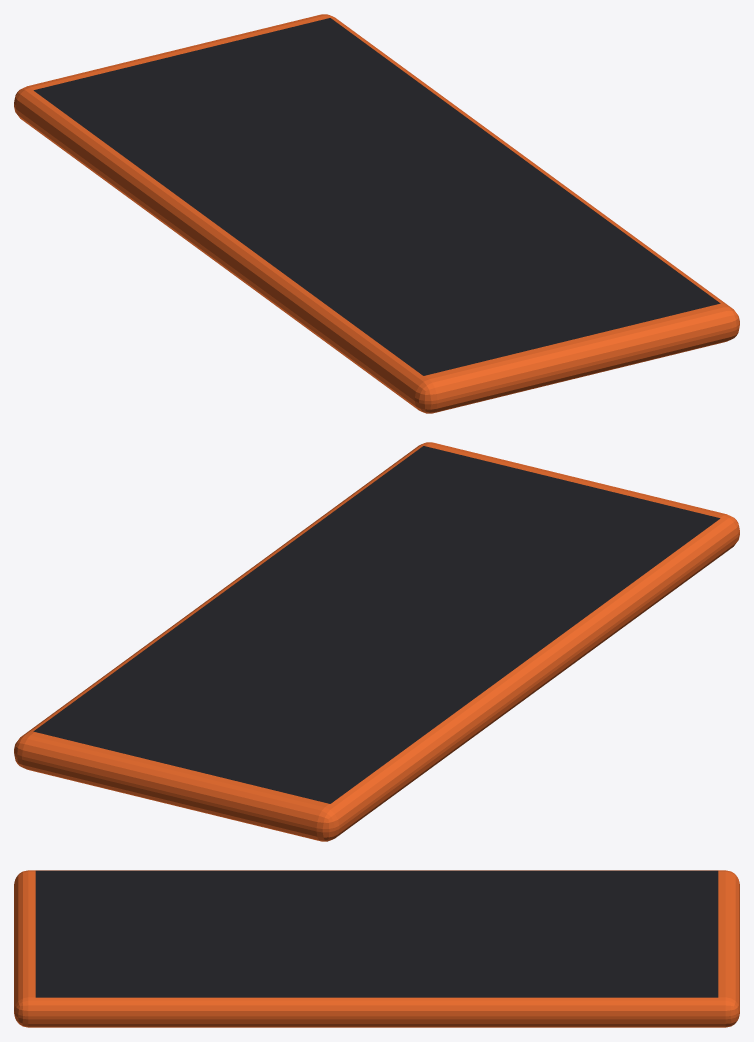
Rendered from tecno-camon-model-398-mid-range-2021.glb.
The picture shows the model from 3 angles, top to bottom: view 1: azimuth 30°, elevation 25°; view 2: azimuth 150°, elevation 25°; view 3: azimuth 270°, elevation 25°; orthographic projection. The views are drawn at different scales.
Parts seen in each view (by area): view 1: Phone_Screen, Phone_Body; view 2: Phone_Screen, Phone_Body; view 3: Phone_Screen, Phone_Body.
Boxes of the visible parts, <box> form: Phone_Screen: <box>33,18,720,375</box>; Phone_Body: <box>14,14,739,413</box>; Phone_Screen: <box>33,446,720,803</box>; Phone_Body: <box>14,442,739,841</box>; Phone_Screen: <box>35,870,718,997</box>; Phone_Body: <box>14,870,739,1027</box>.
Bounding box in the file's own units: 0.0734 × 0.0073 × 0.1634.
